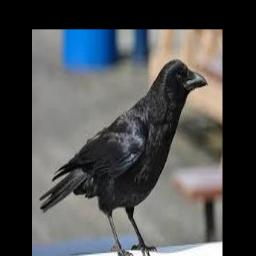Crow: (40, 58, 208, 256)
